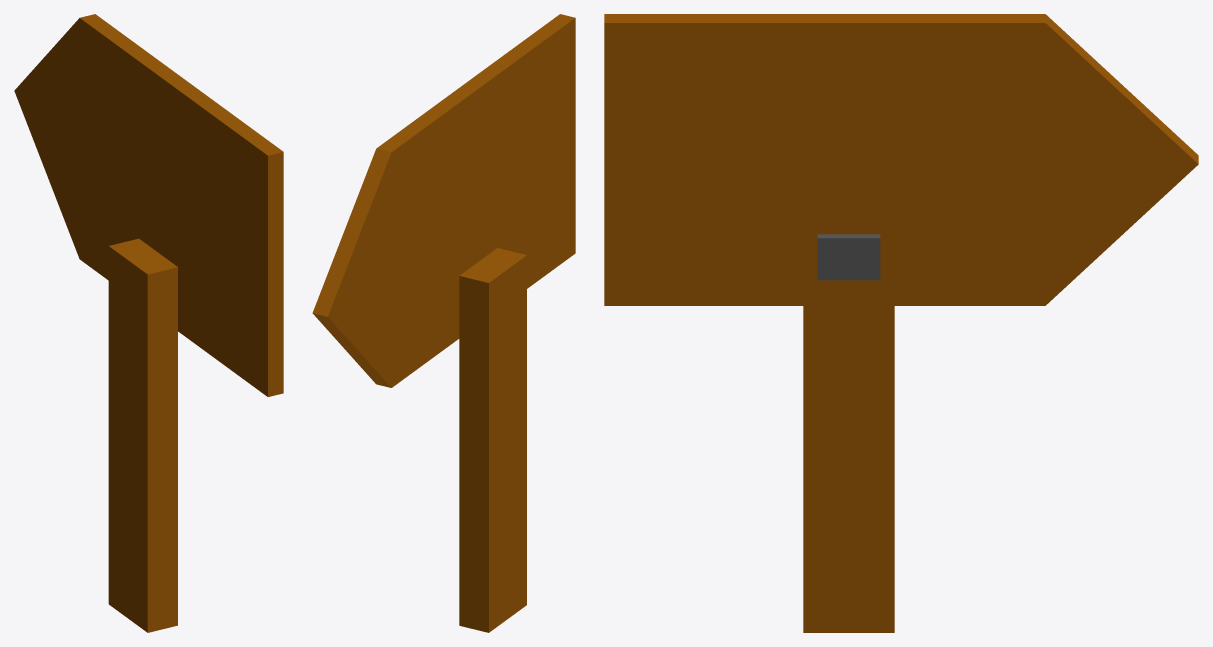
File: Sign2.fbx
The picture shows the model from 3 angles, left to right: view 1: azimuth 30°, elevation 25°; view 2: azimuth 150°, elevation 25°; view 3: azimuth 270°, elevation 25°; orthographic projection. The views are drawn at different scales.
Visible parts, largest first — view 1: Plane.003; view 2: Plane.003; view 3: Plane.003.
Part boxes in pixels (x1,y1,x2,y2): Plane.003: (14, 14, 283, 632); Plane.003: (312, 14, 575, 632); Plane.003: (604, 14, 1198, 632).
Size of the model in its own units: 49.11 by 430 by 372.
